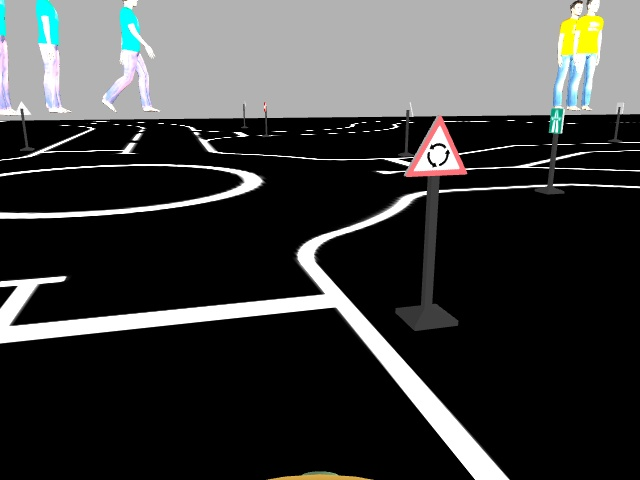Roundabout: (403, 114, 471, 180)
